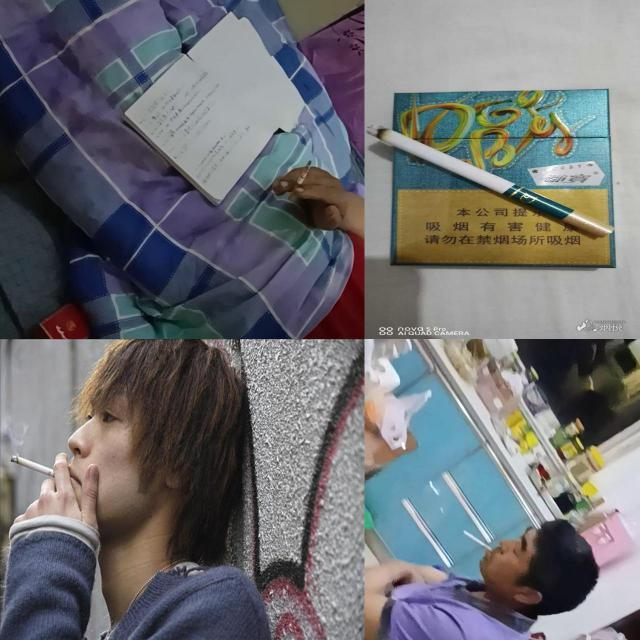cigarette: (367, 124, 618, 238), (9, 454, 68, 481), (288, 160, 312, 203), (463, 530, 493, 552)
